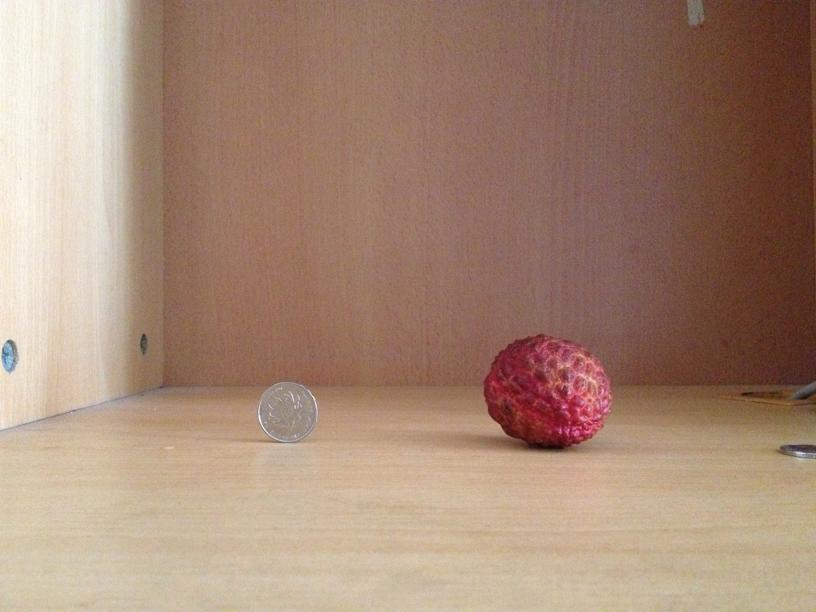coin: (257, 378, 319, 441)
litchi: (480, 334, 610, 449)
